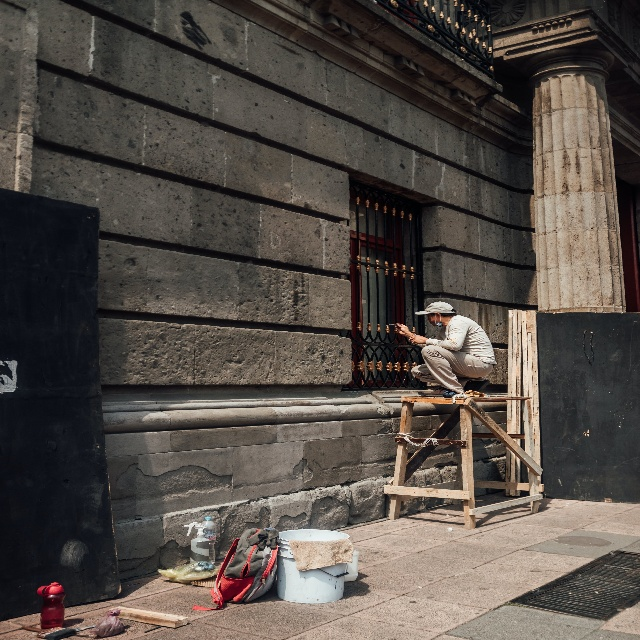Mascara: (434, 315, 442, 327)
Sin_guantes: (394, 322, 409, 336), (409, 334, 427, 344)
